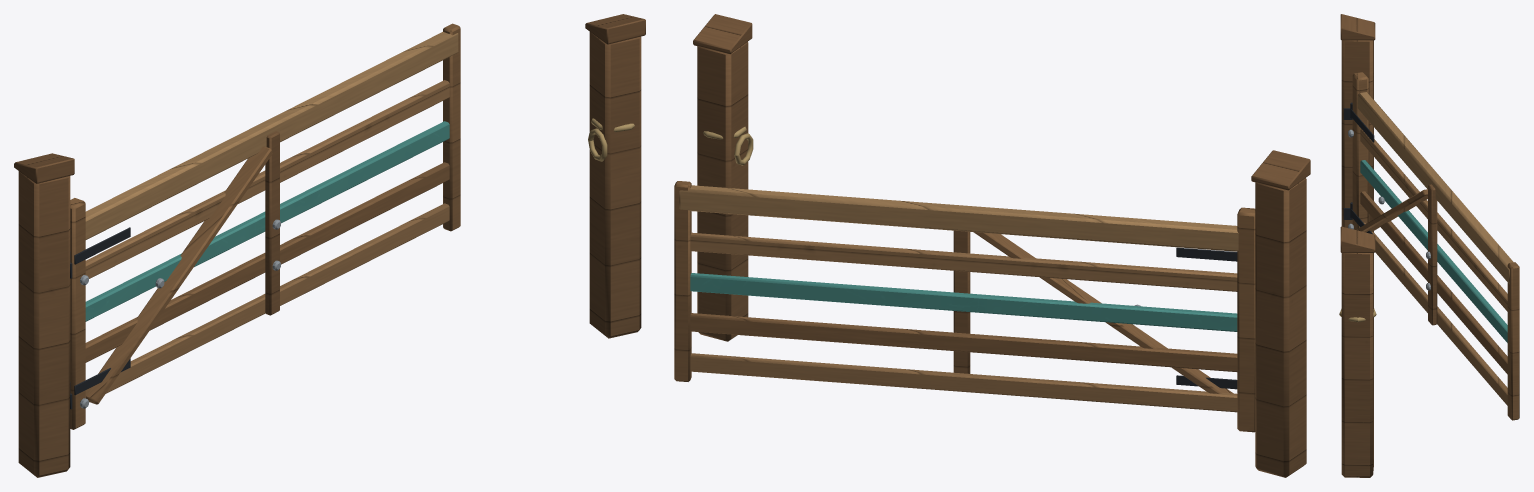
Rendered from farm_gate.glb.
3 renders of one model, left to right at view 1: azimuth 30°, elevation 25°; view 2: azimuth 150°, elevation 25°; view 3: azimuth 270°, elevation 25°, orthographic. The views are drawn at different scales.
Parts seen in each view (by area): view 1: farm_gate; view 2: farm_gate; view 3: farm_gate.
Boxes of the visible parts, x1,y1,x2,y2 form: farm_gate: (14,14,645,477); farm_gate: (674,14,1310,477); farm_gate: (1339,14,1519,477).
Size of the model in its own units: 3.43 by 1.68 by 1.15.
Materials: 8 (8 with a texture image).
